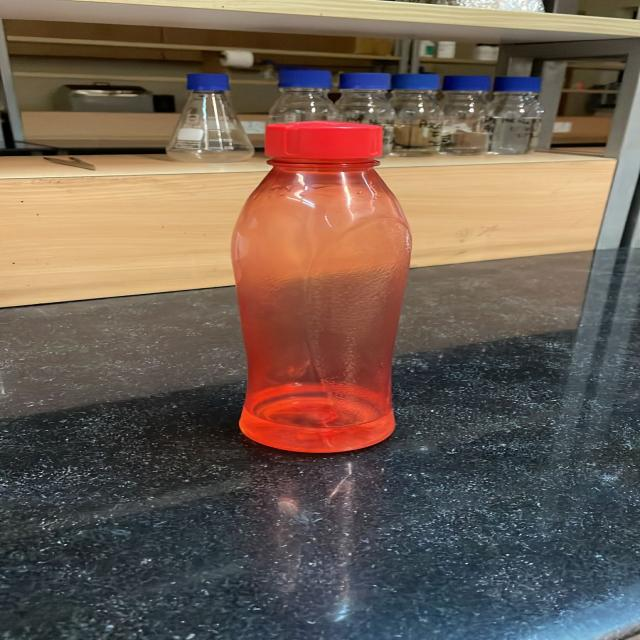Others: (170, 117, 480, 448), (268, 70, 572, 159), (166, 70, 262, 161)
